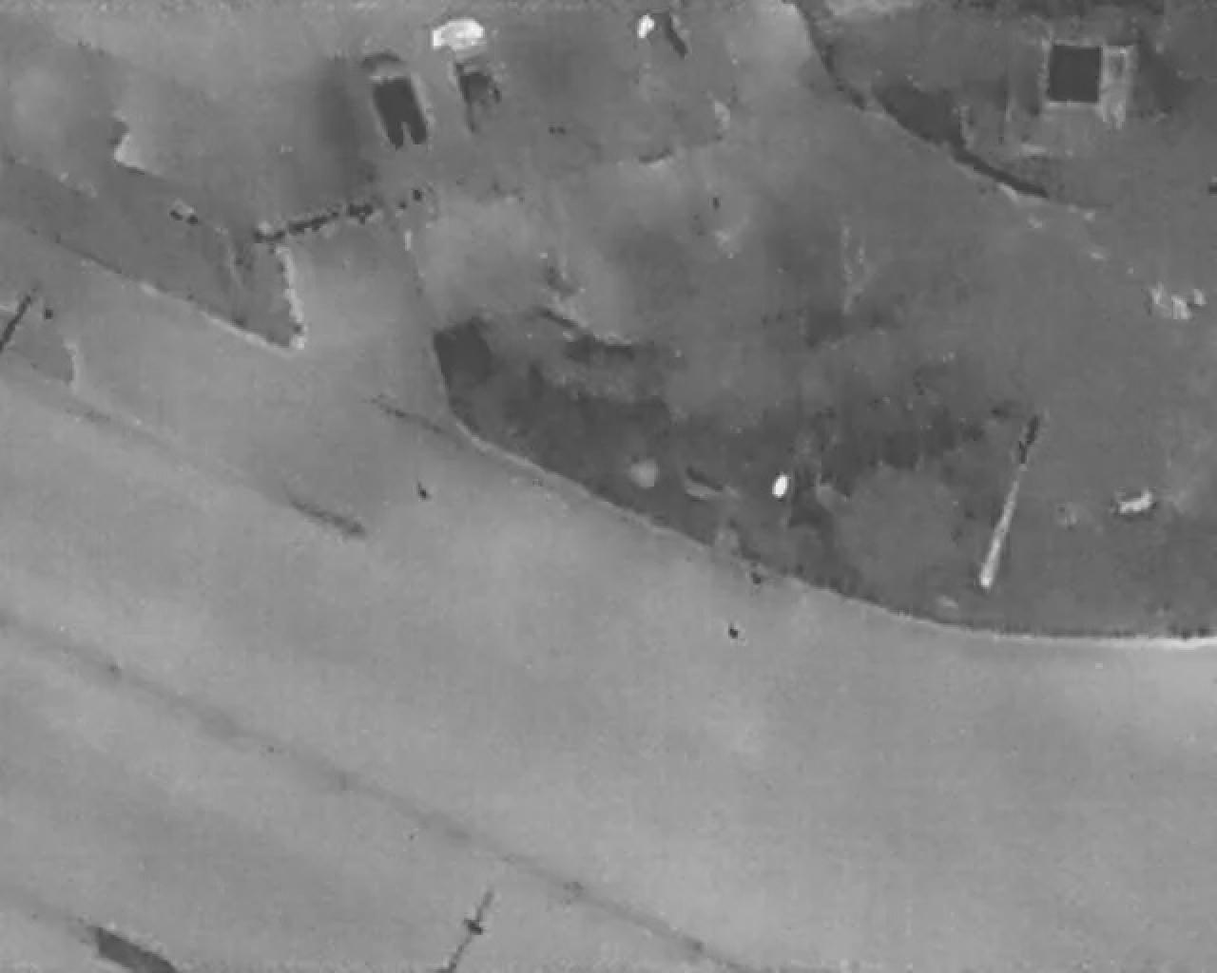person: (636, 12, 659, 45)
